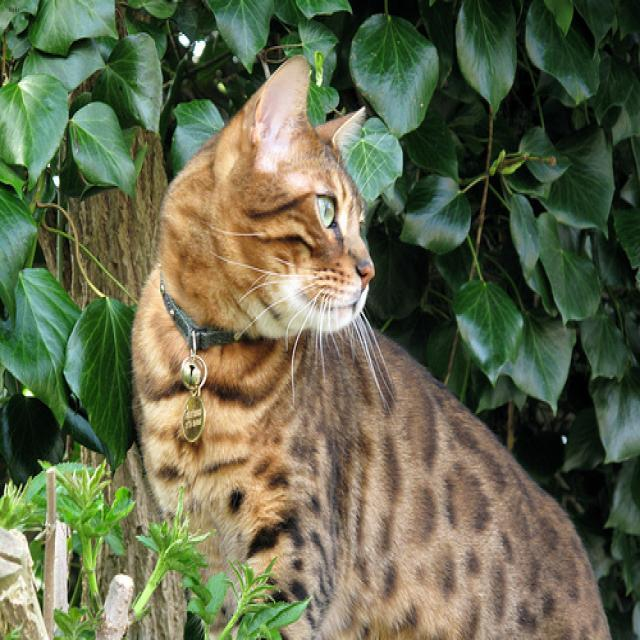Bengal: (157, 58, 380, 341)
